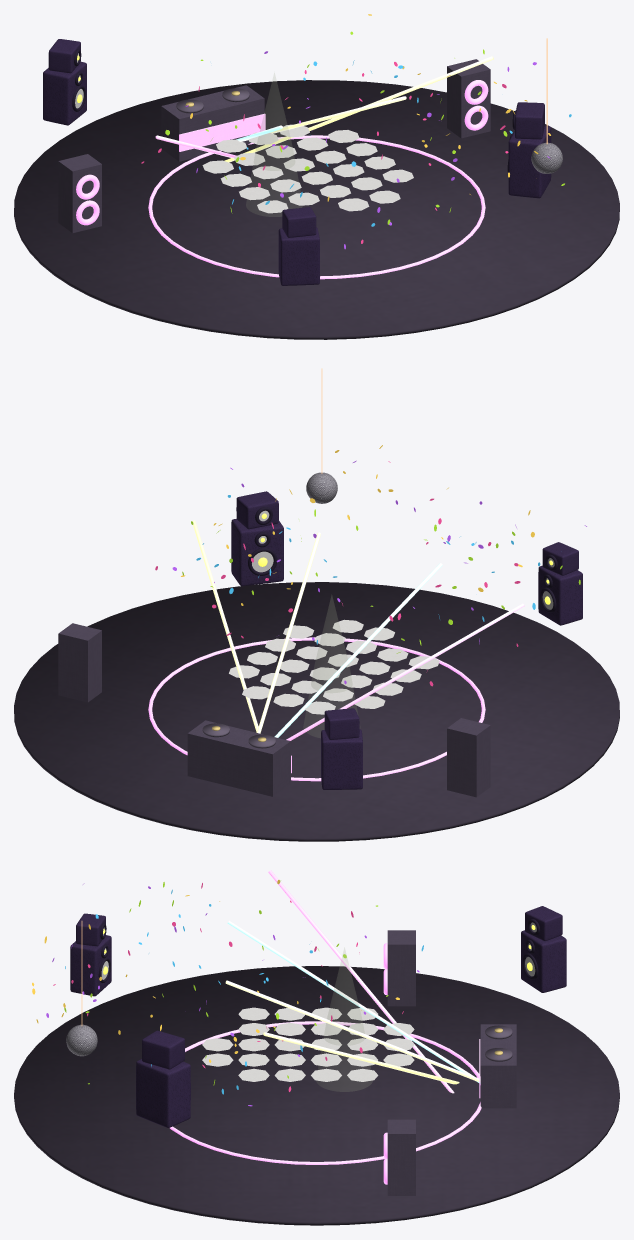
The model's file is stage-club.glb.
3 renders of one model, top to bottom at view 1: azimuth 30°, elevation 25°; view 2: azimuth 150°, elevation 25°; view 3: azimuth 270°, elevation 25°, orthographic.
Parts seen in each view (by area): view 1: stage-club-diorama-floor, stage-club, Cube, Cube.002, Torus.004, Cube.003, Cube.001, Cylinder.007, Cylinder.006; view 2: stage-club-diorama-floor, stage-club, Cube, Cube.002, Cube.003, Torus.004, Cylinder.004, Cylinder.005, Cylinder.006, Cylinder.007; view 3: stage-club-diorama-floor, stage-club, Cube, Cube.003, Cube.002, Torus.004, Cylinder.006, Cylinder.005, Cylinder.004, Cylinder.007.
Part boxes in pixels (<box>): stage-club-diorama-floor: <box>14,80,619,339</box>; stage-club: <box>43,14,571,285</box>; Cube: <box>161,85,264,161</box>; Cube.002: <box>58,154,101,233</box>; Torus.004: <box>148,135,485,279</box>; Cube.003: <box>447,59,490,138</box>; Cube.001: <box>179,113,265,151</box>; Cylinder.007: <box>224,56,493,162</box>; Cylinder.006: <box>242,96,406,141</box>; stage-club-diorama-floor: <box>14,582,619,841</box>; stage-club: <box>155,368,586,789</box>; Cube: <box>187,720,290,796</box>; Cube.002: <box>447,718,490,797</box>; Cube.003: <box>58,623,101,702</box>; Torus.004: <box>148,637,485,781</box>; Cylinder.004: <box>286,603,524,740</box>; Cylinder.005: <box>274,563,442,737</box>; Cylinder.006: <box>257,532,320,733</box>; Cylinder.007: <box>192,520,258,732</box>; stage-club-diorama-floor: <box>14,966,619,1225</box>; stage-club: <box>32,880,566,1127</box>; Cube: <box>480,1024,516,1108</box>; Cube.003: <box>387,1119,415,1195</box>; Cube.002: <box>387,930,415,1006</box>; Torus.004: <box>170,1021,481,1164</box>; Cylinder.006: <box>225,980,480,1081</box>; Cylinder.005: <box>227,920,480,1083</box>; Cylinder.004: <box>268,870,454,1093</box>; Cylinder.007: <box>263,1032,459,1084</box>.
Bounding box in the file's own units: 33.46 × 14.14 × 33.46.
Materials: 53 (48 with a texture image).
